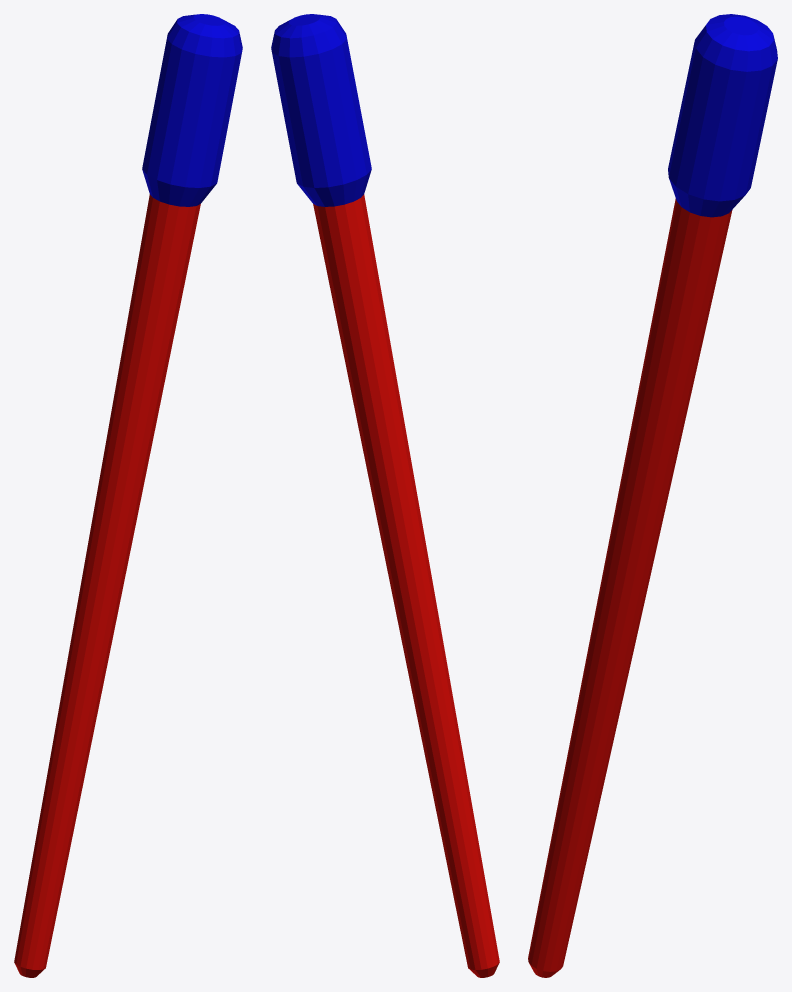
The model's file is Torch Lowpoly.fbx.
3 renders of one model, left to right at view 1: azimuth 30°, elevation 25°; view 2: azimuth 150°, elevation 25°; view 3: azimuth 330°, elevation 25°, orthographic. The views are drawn at different scales.
Parts seen in each view (by area): view 1: Cylinder.002; view 2: Cylinder.002; view 3: Cylinder.002.
Boxes of the visible parts, <box> form: Cylinder.002: <box>14,14,242,977</box>; Cylinder.002: <box>271,14,499,977</box>; Cylinder.002: <box>528,14,777,977</box>.
Size of the model in its own units: 15.69 by 61.89 by 4.78.
